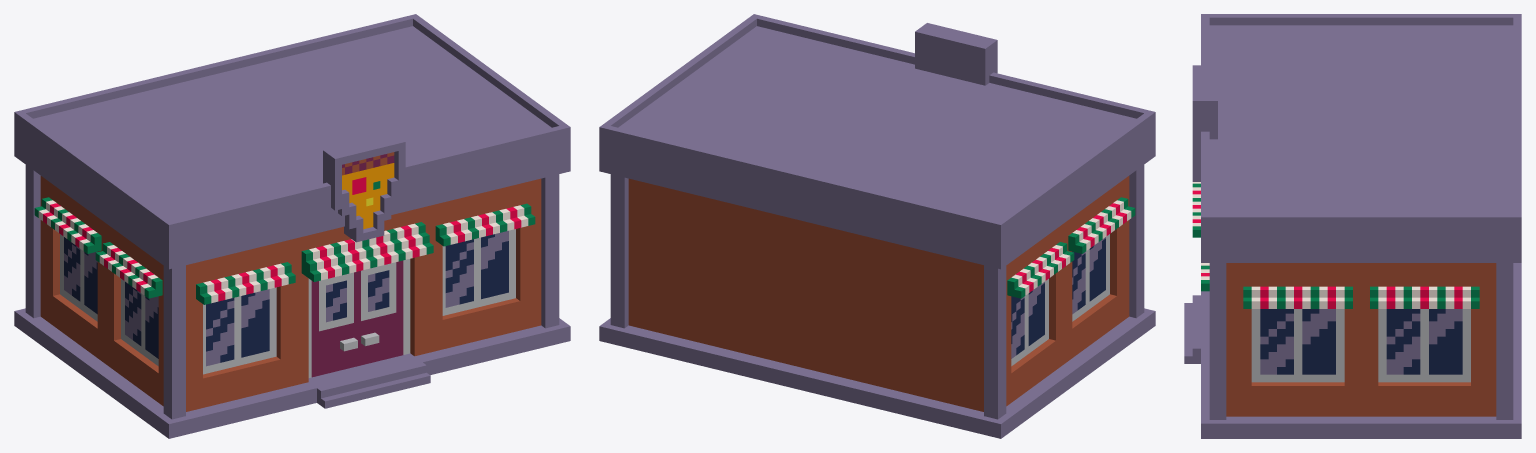
The model's file is pizza_shop_b.obj.
The picture shows the model from 3 angles, left to right: view 1: azimuth 30°, elevation 25°; view 2: azimuth 150°, elevation 25°; view 3: azimuth 270°, elevation 25°; orthographic projection. The views are drawn at different scales.
Size of the model in its own units: 5.7 by 3.3 by 4.
Materials: 1 (1 with a texture image).
